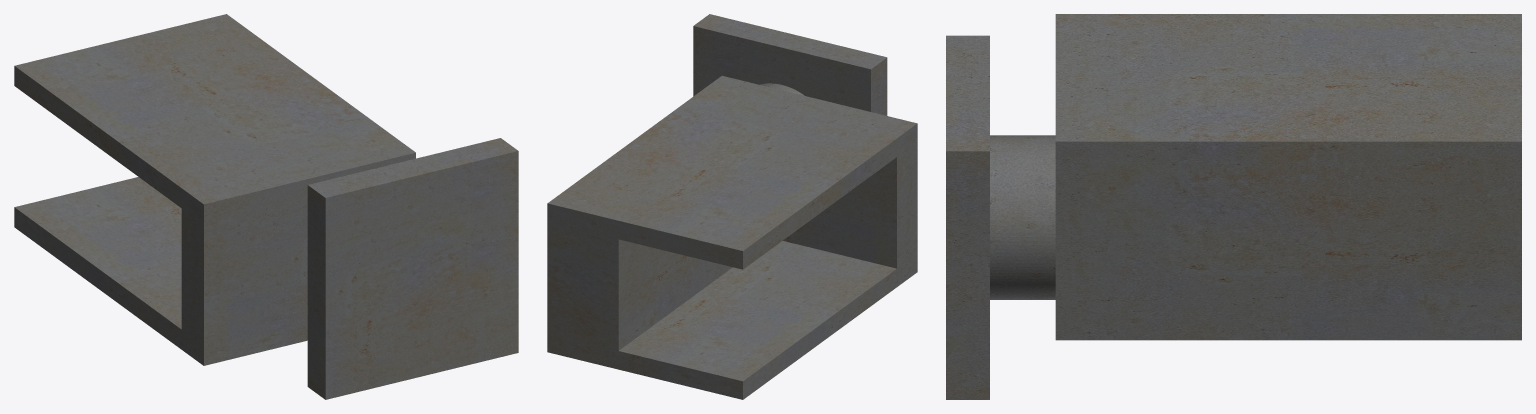
The model's file is caster_swivel_1.glb.
The picture shows the model from 3 angles, left to right: view 1: azimuth 30°, elevation 25°; view 2: azimuth 150°, elevation 25°; view 3: azimuth 270°, elevation 25°; orthographic projection. The views are drawn at different scales.
Parts seen in each view (by area): view 1: world; view 2: world; view 3: world.
Part boxes in pixels (x1=…): world: x1=14, y1=14, x2=518, y2=399; world: x1=547, y1=14, x2=917, y2=399; world: x1=946, y1=14, x2=1521, y2=399.
Bounding box in the file's own units: 70 × 50 × 105.
Materials: 1 (1 with a texture image).
